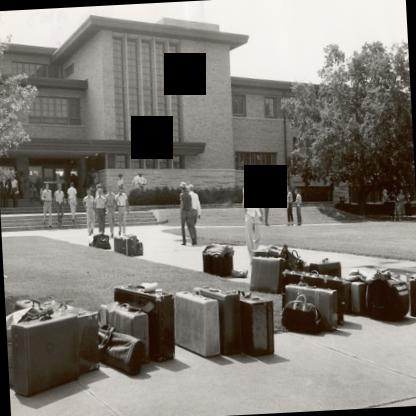handbag: (281, 293, 324, 335)
suitcase: (1, 215, 415, 391), (11, 308, 83, 401), (114, 282, 174, 362), (282, 268, 345, 324), (174, 287, 220, 357), (197, 284, 241, 353), (97, 301, 150, 356), (240, 288, 277, 356), (284, 284, 337, 331), (249, 256, 285, 292), (308, 256, 342, 278), (203, 255, 233, 276), (351, 280, 367, 313), (265, 245, 282, 256)
